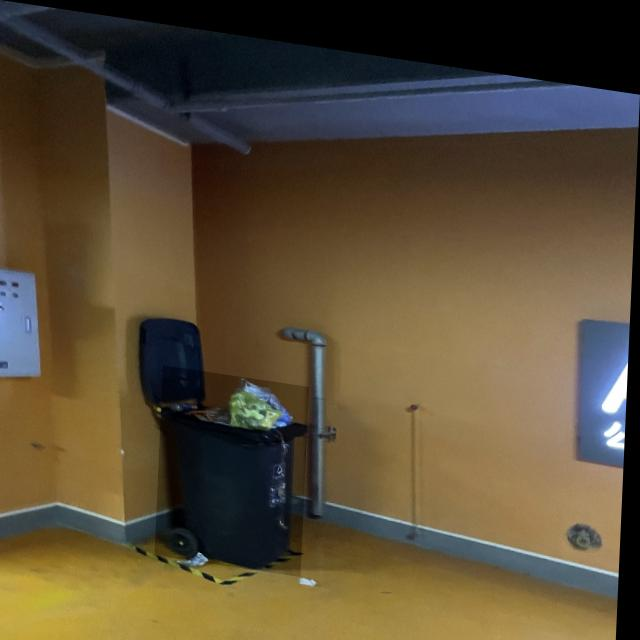overflow: (160, 360, 312, 567)
